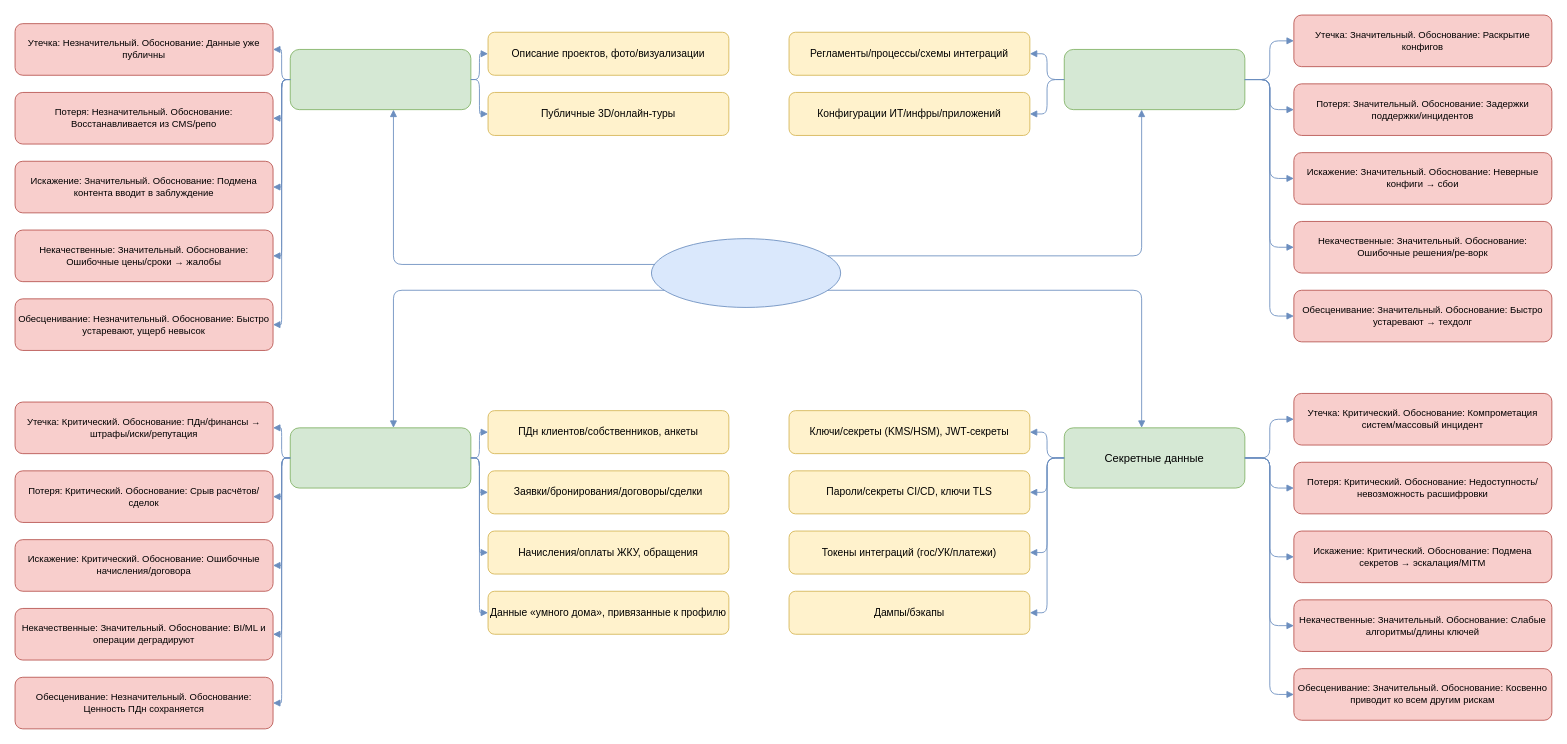
This 1567x744 diagram has some shape labels left out. The shapes that lost their labels are listed below. From the top down, each one's box as (x1, y1, x2, y2) in pixels, then its label:
(289, 49, 471, 110): Публичные данные
(1063, 49, 1245, 110): Внутренние данные
(651, 238, 841, 307): Безопасность данных
(289, 427, 471, 488): Конфиденциальные данные
